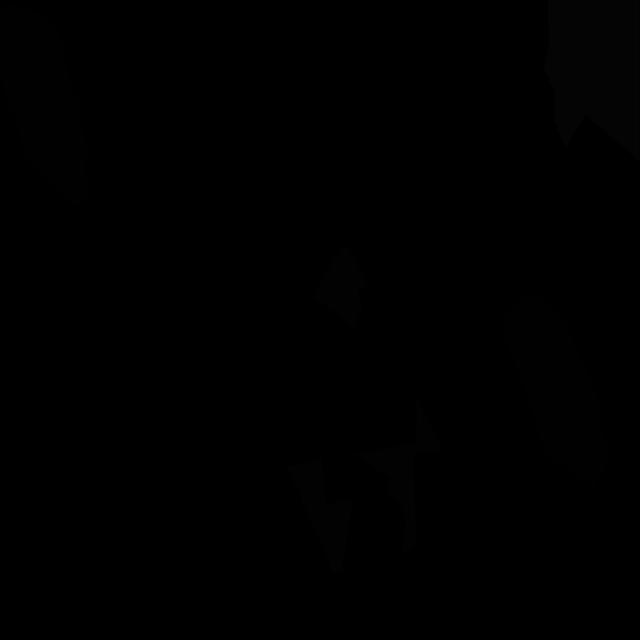cardboard: (353, 397, 444, 555), (287, 457, 354, 573), (313, 247, 368, 329)
rigid_plastic: (503, 293, 611, 489), (0, 4, 90, 206)
soft_plastic: (544, 0, 640, 161)
